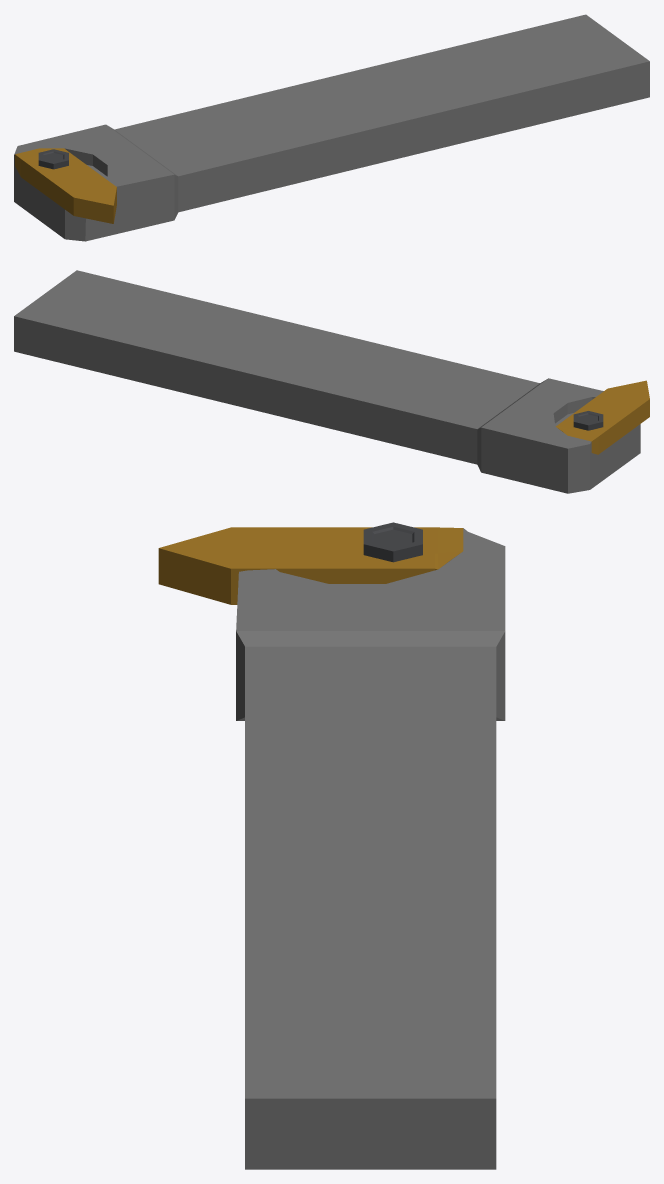
File: Cutter6.fbx
3 views of the same model, one above another, from view 1: azimuth 30°, elevation 25°; view 2: azimuth 150°, elevation 25°; view 3: azimuth 270°, elevation 25° (orthographic). The views are drawn at different scales.
Visible parts, largest first — view 1: Cutter6; view 2: Cutter6; view 3: Cutter6.
Boxes of the visible parts, bbox=[...] form: Cutter6: bbox=[14, 14, 649, 241]; Cutter6: bbox=[14, 270, 649, 493]; Cutter6: bbox=[158, 522, 505, 1169].
Bounding box in the file's own units: 135 × 12.1 × 35.62.
